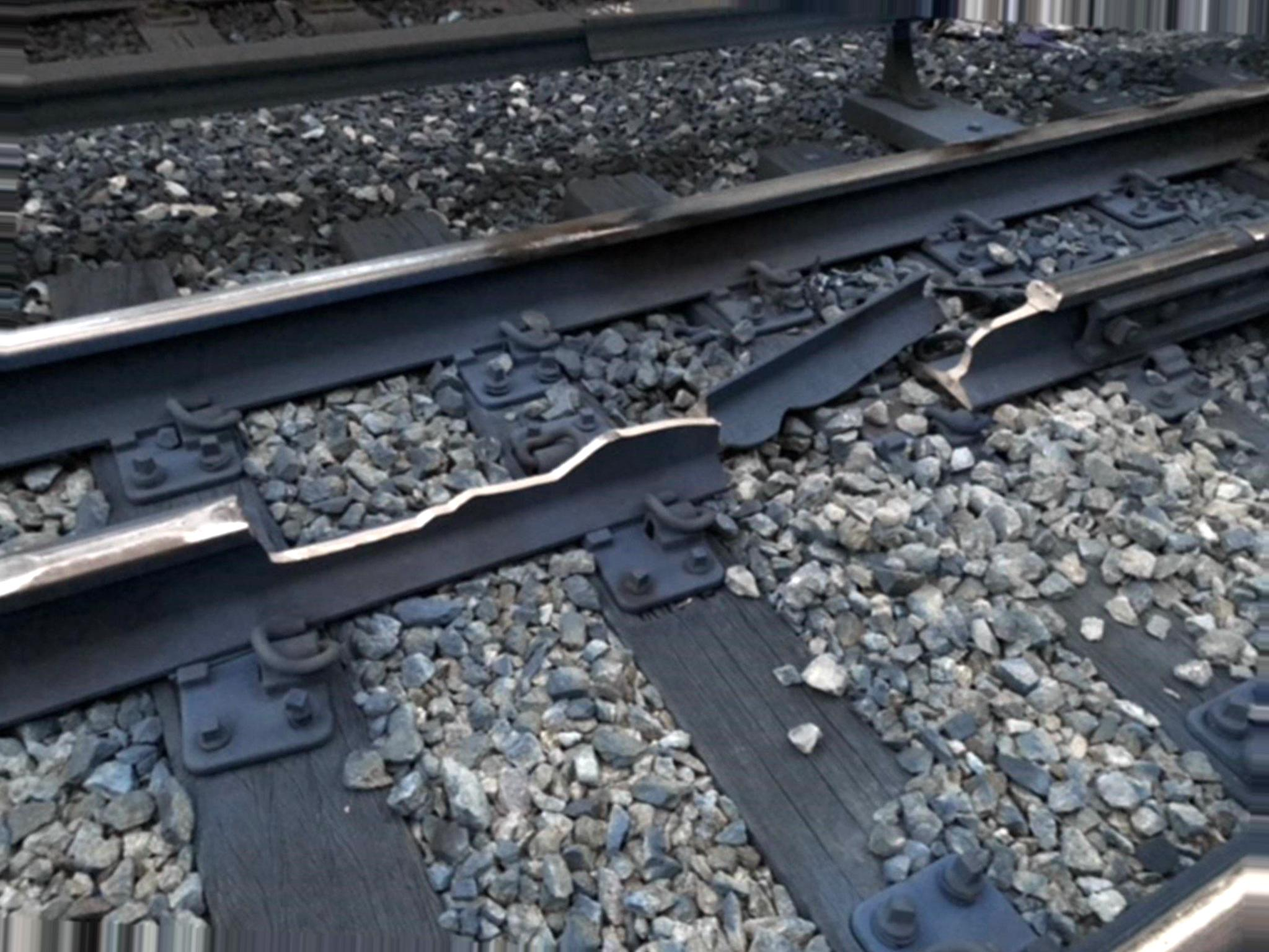tracks_fault: (163, 239, 1119, 613)
